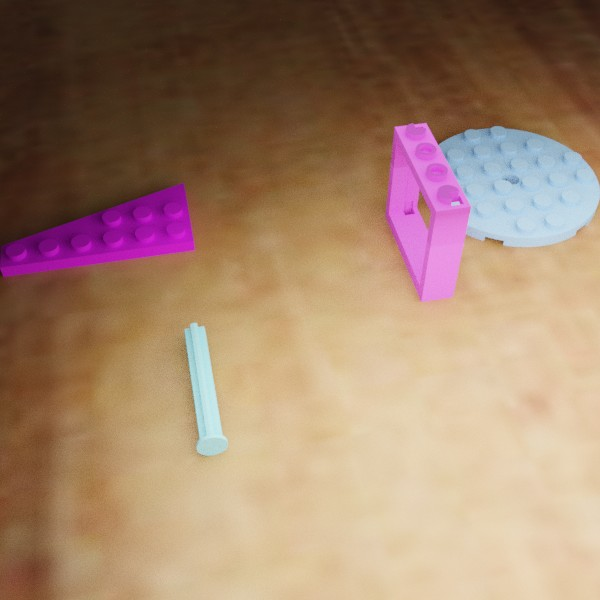lego: (422, 126, 600, 247), (0, 182, 194, 276), (385, 123, 471, 301), (184, 322, 228, 455)
